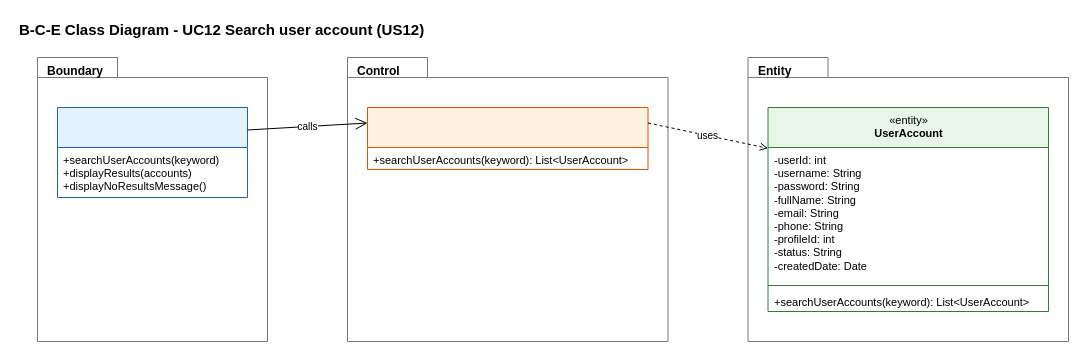
The diagram is 1086 pixels wide and 359 high, and some of its shapes have lost their labels. The box of each missing label's shape, as (x1, y1, x2, y2) in pixels:
«boundary» SearchUserAccountPage: (56, 106, 248, 198)
«control» SearchUserAccountController: (366, 106, 648, 170)
